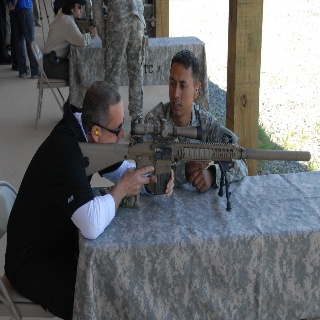rifle: (79, 119, 312, 210)
